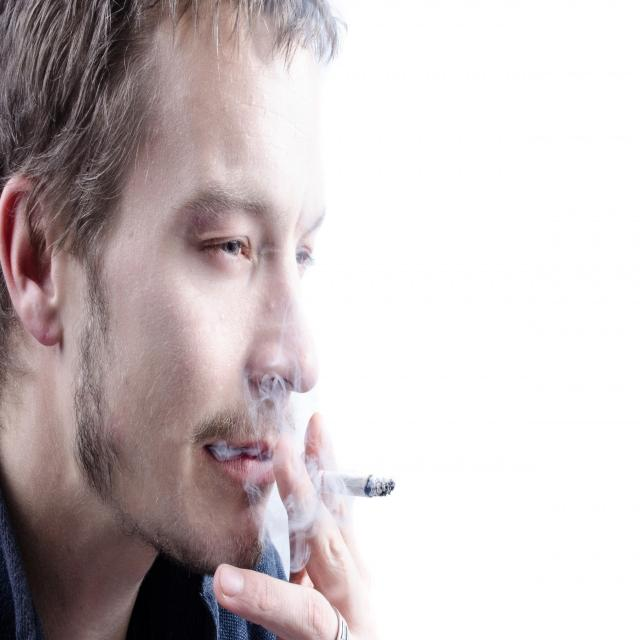smoke: (312, 462, 404, 505)
